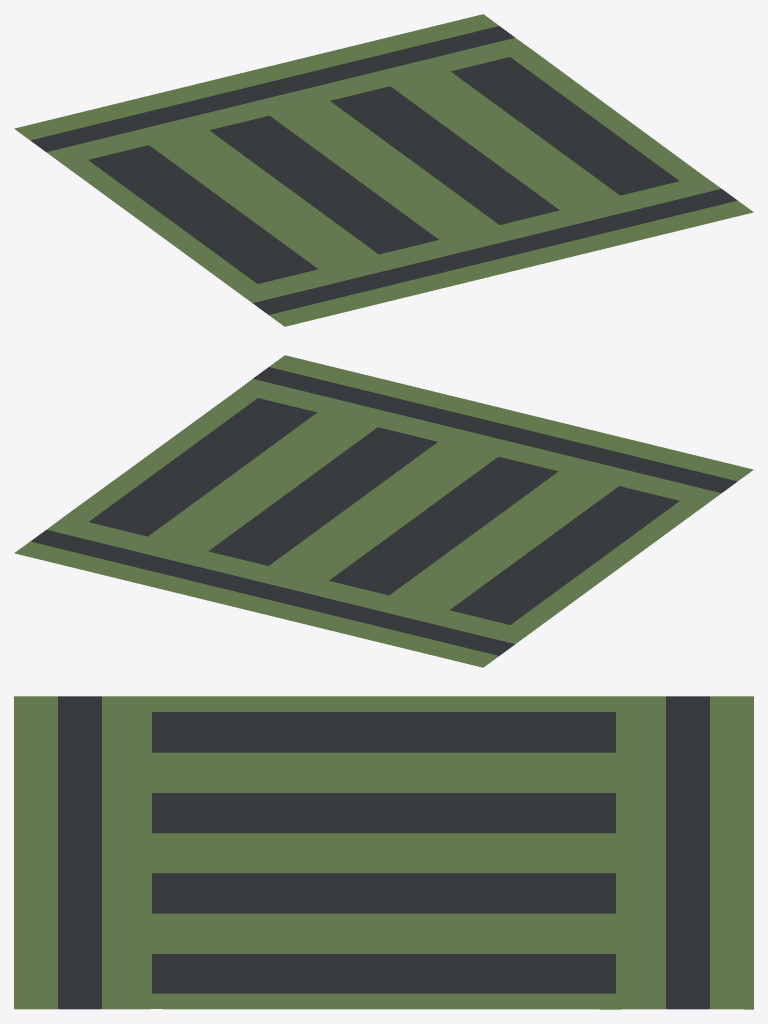
File: RoadPart_04.fbx
3 views of the same model, one above another, from view 1: azimuth 30°, elevation 25°; view 2: azimuth 150°, elevation 25°; view 3: azimuth 270°, elevation 25° (orthographic). The views are drawn at different scales.
Parts seen in each view (by area): view 1: RoadPart_04; view 2: RoadPart_04; view 3: RoadPart_04.
Part boxes in pixels (x1=…): RoadPart_04: x1=14, y1=14, x2=753, y2=326; RoadPart_04: x1=14, y1=355, x2=753, y2=667; RoadPart_04: x1=14, y1=696, x2=753, y2=1009.
Bounding box in the file's own units: 3 × 7.26e-07 × 3.
